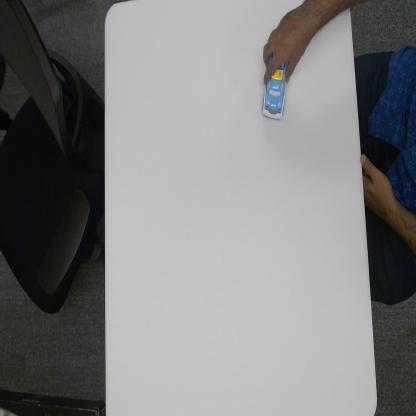Arm: (298, 0, 351, 38)
Car: (262, 56, 288, 122)
Hand: (263, 6, 307, 88)
